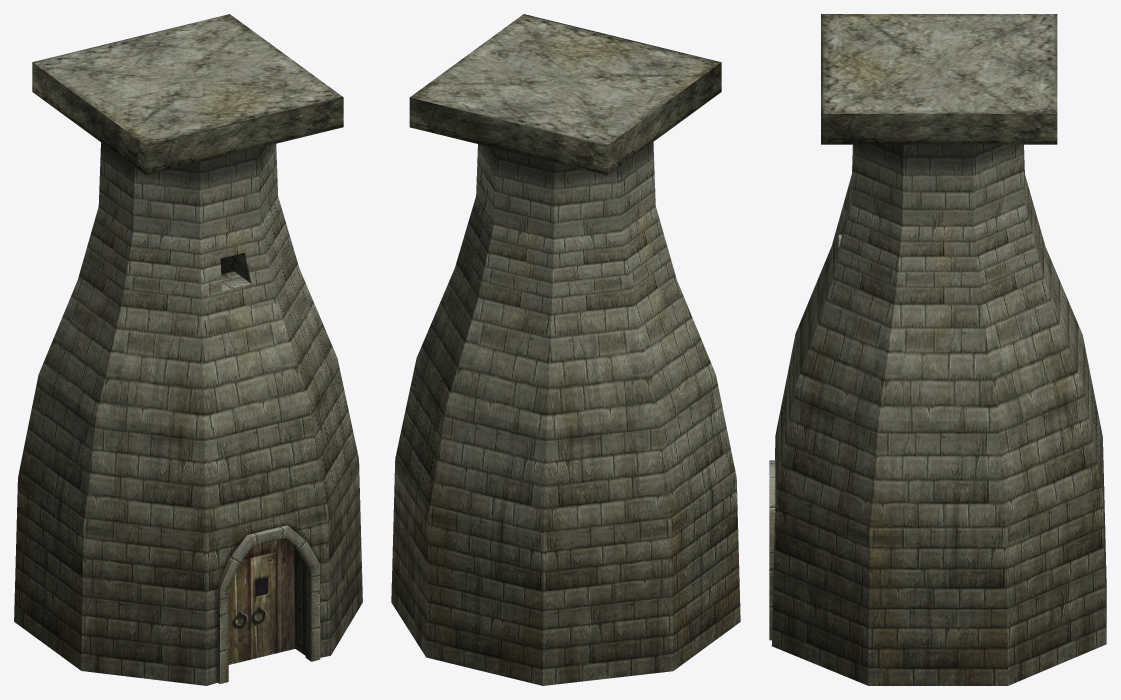
File: landmark_observatory.fbx
3 renders of one model, left to right at view 1: azimuth 30°, elevation 25°; view 2: azimuth 150°, elevation 25°; view 3: azimuth 270°, elevation 25°, orthographic. The views are drawn at different scales.
Visible parts, largest first — view 1: Box04; view 2: Box04; view 3: Box04.
Part boxes in pixels (bbox=[...]): Box04: bbox=[14, 14, 362, 685]; Box04: bbox=[391, 14, 740, 685]; Box04: bbox=[769, 14, 1106, 685].
Bounding box in the file's own units: 8.14 × 14.7 × 8.15.
